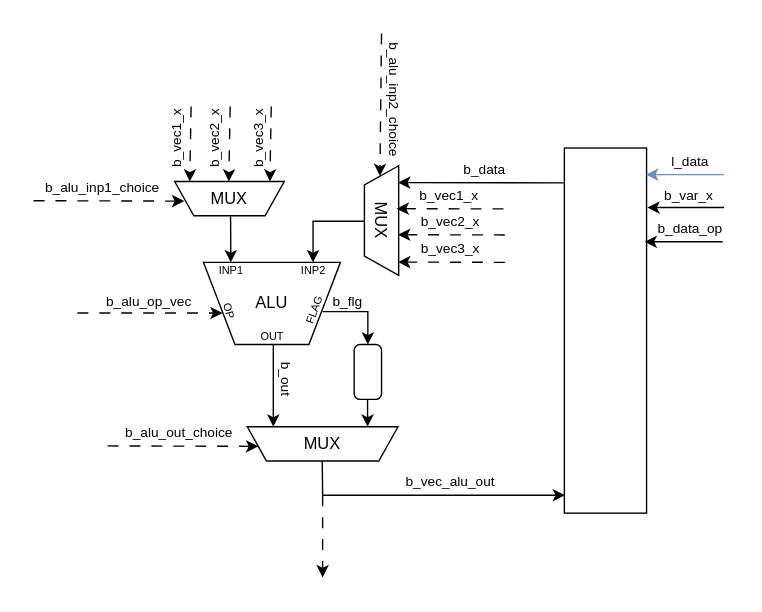
This 762x612 diagram has some shape labels left out. The shapes that lost their labels are listed below. From the top down, each one's centre as x and y in pixels, then its label:
At point 605,330: "Data Memory Unit".
At point 367,371: "EXT".
